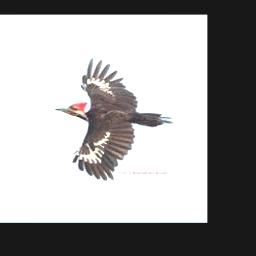Woodpecker: (56, 57, 174, 180)
